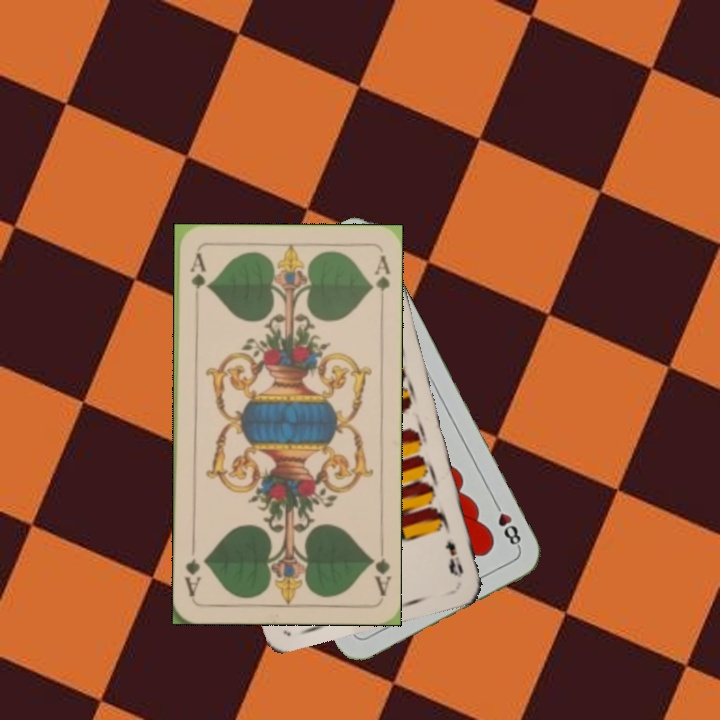E9: (441, 536, 466, 580)
GA: (186, 249, 208, 308), (365, 552, 392, 599)
H8: (489, 497, 524, 551)
